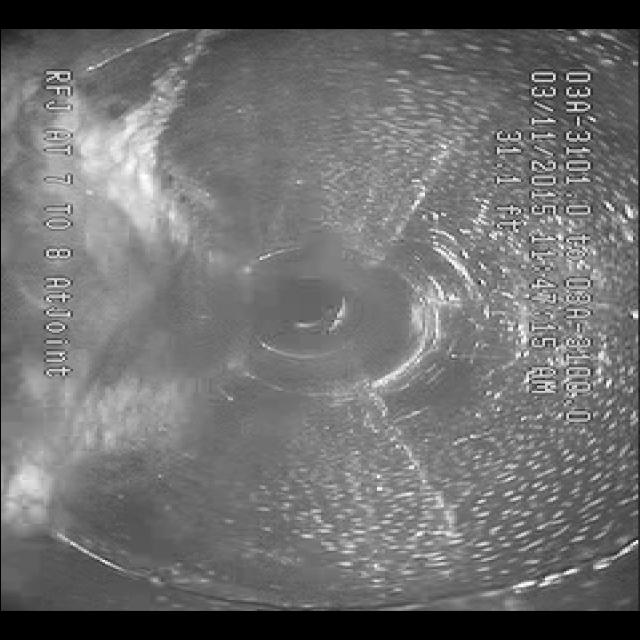Crack: (352, 388, 477, 558)
